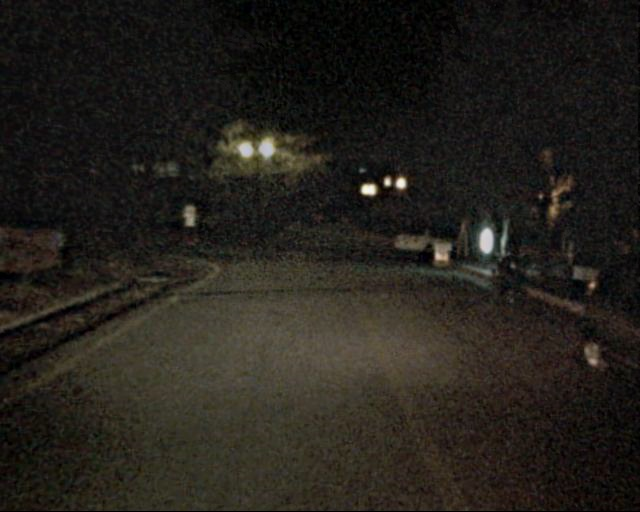person: (559, 222, 583, 281)
